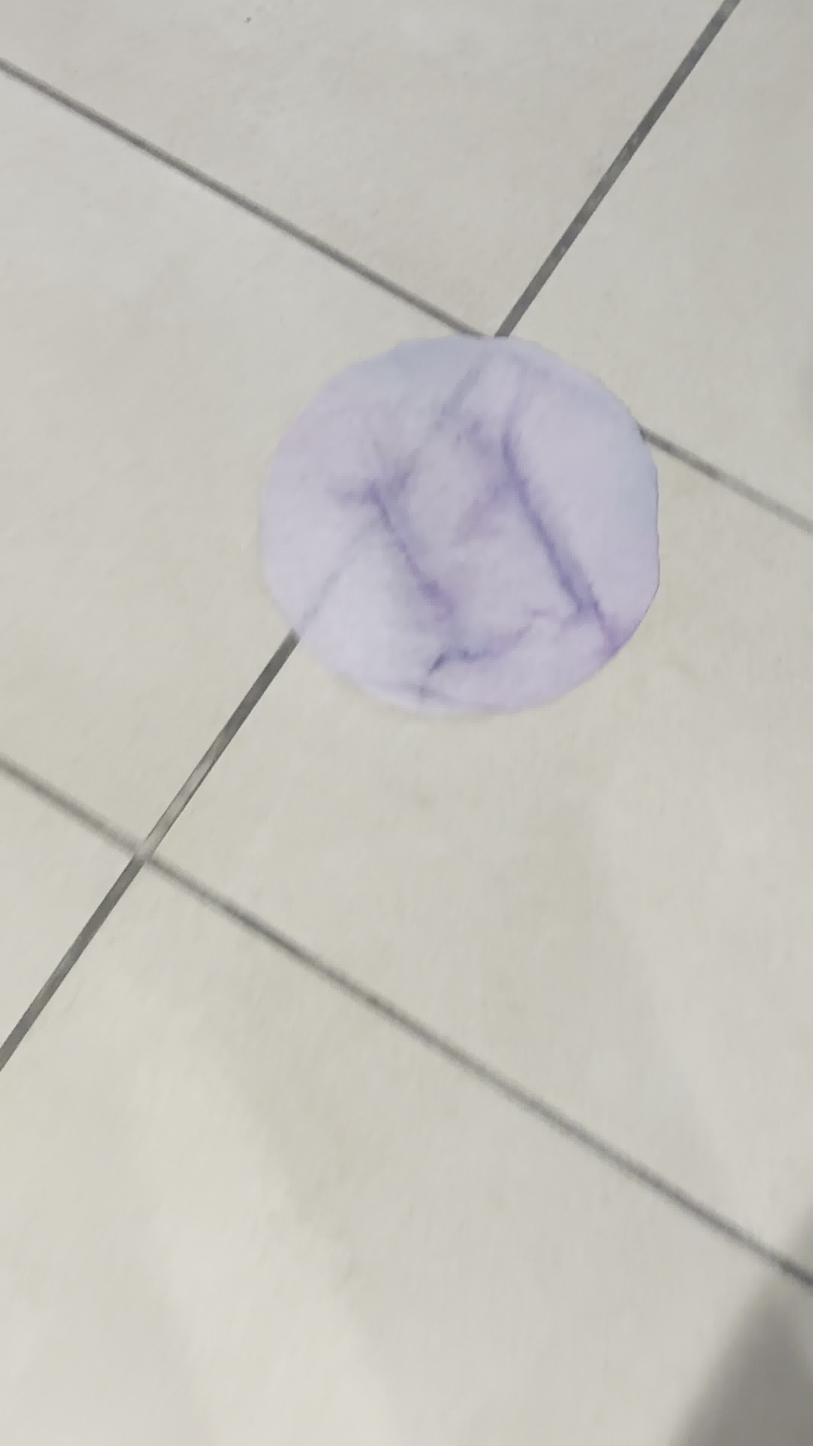Target: (255, 336, 664, 718)
